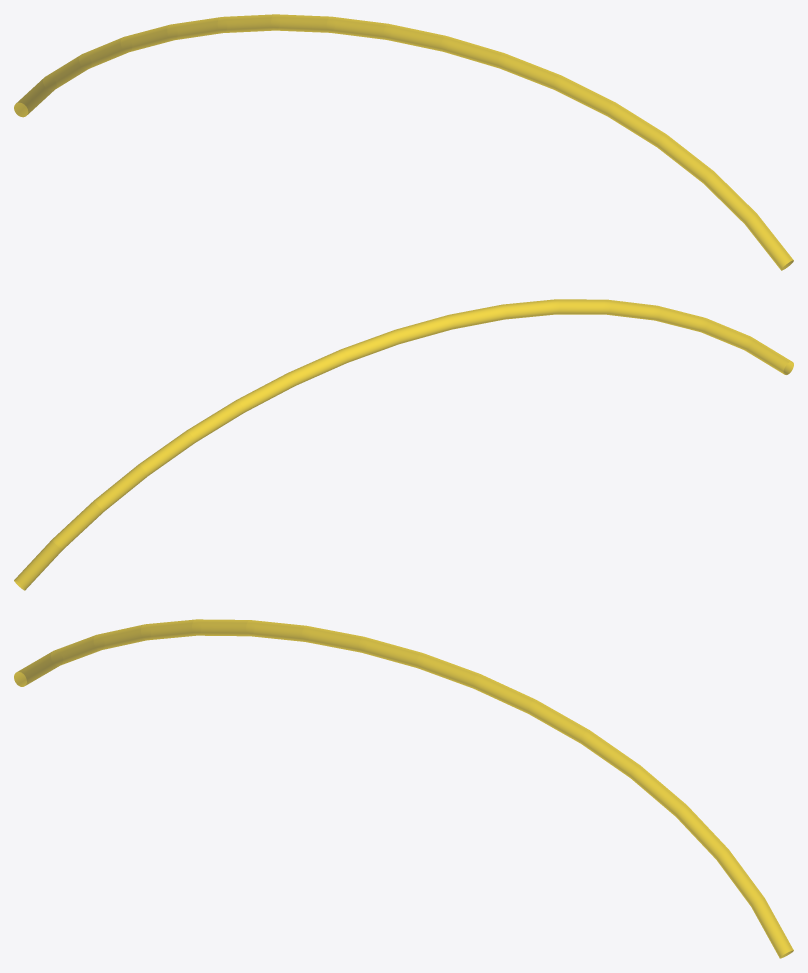
File: Event_419990632_track_95.fbx
The picture shows the model from 3 angles, top to bottom: view 1: azimuth 90°, elevation 25°; view 2: azimuth 150°, elevation 25°; view 3: azimuth 270°, elevation 25°; orthographic projection. The views are drawn at different scales.
Parts seen in each view (by area): view 1: Model; view 2: Model; view 3: Model.
Boxes of the visible parts, box(x1,y1,x2,y2) form: Model: box(14, 14, 793, 270); Model: box(14, 299, 793, 590); Model: box(14, 619, 793, 958).
Size of the model in its own units: 1.28 by 0.5419 by 1.91.
